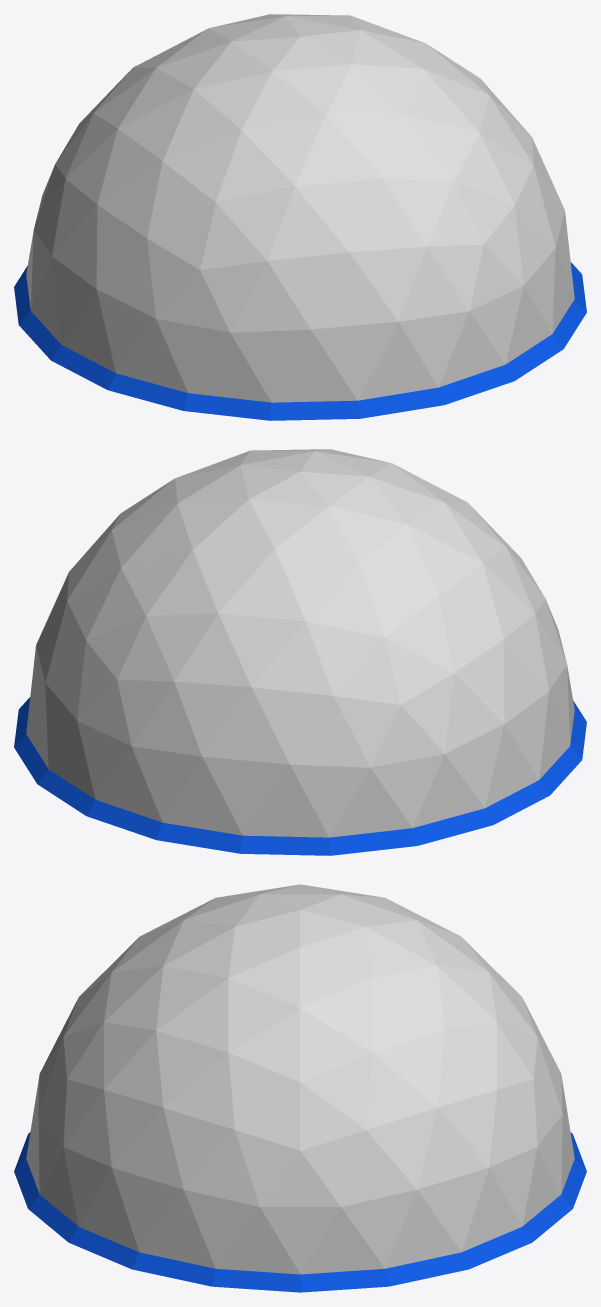
Rendered from SmallDome.fbx.
3 views of the same model, one above another, from view 1: azimuth 30°, elevation 25°; view 2: azimuth 150°, elevation 25°; view 3: azimuth 270°, elevation 25° (orthographic).
Parts seen in each view (by area): view 1: SmallDome; view 2: SmallDome; view 3: SmallDome.
Boxes of the visible parts, box(x1,y1,x2,y2) form: SmallDome: box(14, 14, 586, 420); SmallDome: box(14, 449, 586, 855); SmallDome: box(14, 884, 586, 1292).
Bounding box in the file's own units: 418 × 210 × 418.
